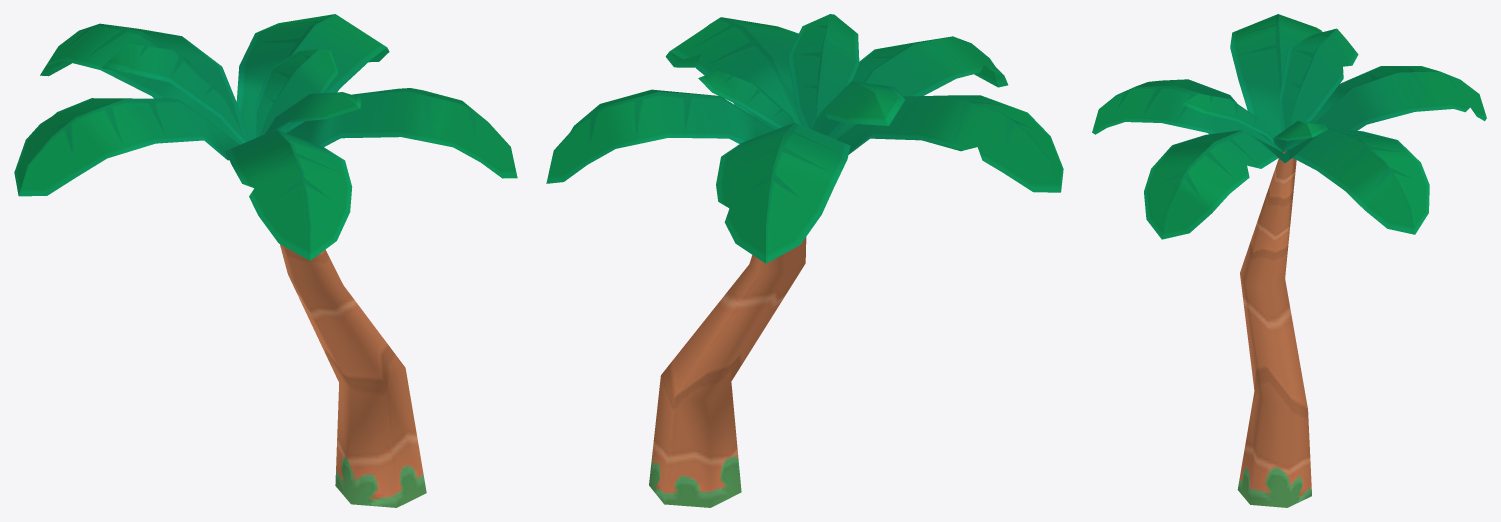
The model's file is tree3.glb.
3 views of the same model, side by side, from view 1: azimuth 30°, elevation 25°; view 2: azimuth 150°, elevation 25°; view 3: azimuth 270°, elevation 25° (orthographic). The views are drawn at different scales.
Parts seen in each view (by area): view 1: bgr_jungle_tree_top_11.004_palm_tree.001_0; view 2: bgr_jungle_tree_top_11.004_palm_tree.001_0; view 3: bgr_jungle_tree_top_11.004_palm_tree.001_0.
Boxes of the visible parts, x1,y1,x2,y2 form: bgr_jungle_tree_top_11.004_palm_tree.001_0: [14, 14, 517, 507]; bgr_jungle_tree_top_11.004_palm_tree.001_0: [546, 14, 1063, 507]; bgr_jungle_tree_top_11.004_palm_tree.001_0: [1092, 14, 1486, 507].
Size of the model in its own units: 4.45 by 4.6 by 4.33.
1 material, 1 textured.
